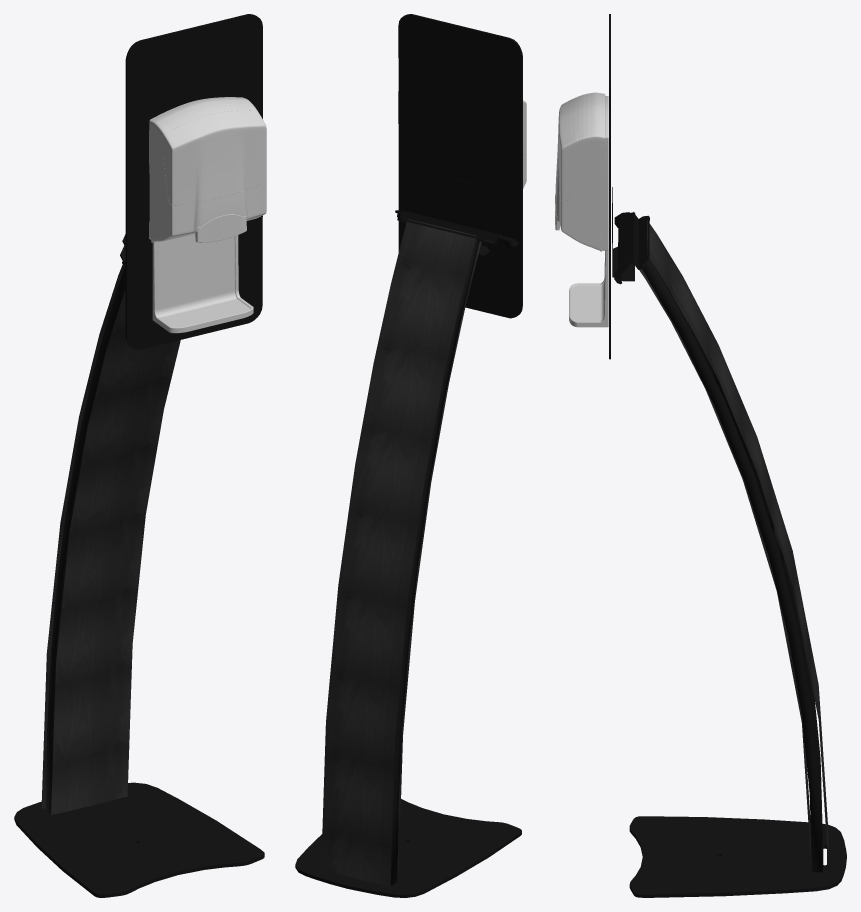
Rendered from Hand Sanitizer.fbx.
The picture shows the model from 3 angles, left to right: view 1: azimuth 30°, elevation 25°; view 2: azimuth 150°, elevation 25°; view 3: azimuth 270°, elevation 25°; orthographic projection. The views are drawn at different scales.
Visible parts, largest first — view 1: Convey sanitizer10x10-2 EN Copy.029, Convey sanitizer10x10-2 EN Copy.012, Convey sanitizer10x10-2 EN Copy.022, Convey sanitizer10x10-2 EN Copy.002, Convey sanitizer10x10-2 EN Copy.027; view 2: Convey sanitizer10x10-2 EN Copy.027, Convey sanitizer10x10-2 EN Copy.002, Convey sanitizer10x10-2 EN Copy.022, Convey sanitizer10x10-2 EN Copy.017, Convey sanitizer10x10-2 EN Copy.029; view 3: Convey sanitizer10x10-2 EN Copy.022, Convey sanitizer10x10-2 EN Copy.012, Convey sanitizer10x10-2 EN Copy.027, Convey sanitizer10x10-2 EN Copy.029, Convey sanitizer10x10-2 EN Copy.002.
Part boxes in pixels (x1,y1,x2,y2): Convey sanitizer10x10-2 EN Copy.029: (51,289,180,815); Convey sanitizer10x10-2 EN Copy.012: (149,97,266,333); Convey sanitizer10x10-2 EN Copy.022: (14,234,264,897); Convey sanitizer10x10-2 EN Copy.002: (125,14,262,349); Convey sanitizer10x10-2 EN Copy.027: (41,265,125,808); Convey sanitizer10x10-2 EN Copy.027: (321,219,476,886); Convey sanitizer10x10-2 EN Copy.002: (398,14,522,318); Convey sanitizer10x10-2 EN Copy.022: (295,210,521,897); Convey sanitizer10x10-2 EN Copy.017: (432,173,486,246); Convey sanitizer10x10-2 EN Copy.029: (397,241,481,880); Convey sanitizer10x10-2 EN Copy.022: (613,212,846,897); Convey sanitizer10x10-2 EN Copy.012: (555,92,608,327); Convey sanitizer10x10-2 EN Copy.027: (647,220,828,867); Convey sanitizer10x10-2 EN Copy.029: (639,269,811,870); Convey sanitizer10x10-2 EN Copy.002: (609,14,610,359).
Bounding box in the file's own units: 110 × 533 × 172.
3 materials, 1 textured.
